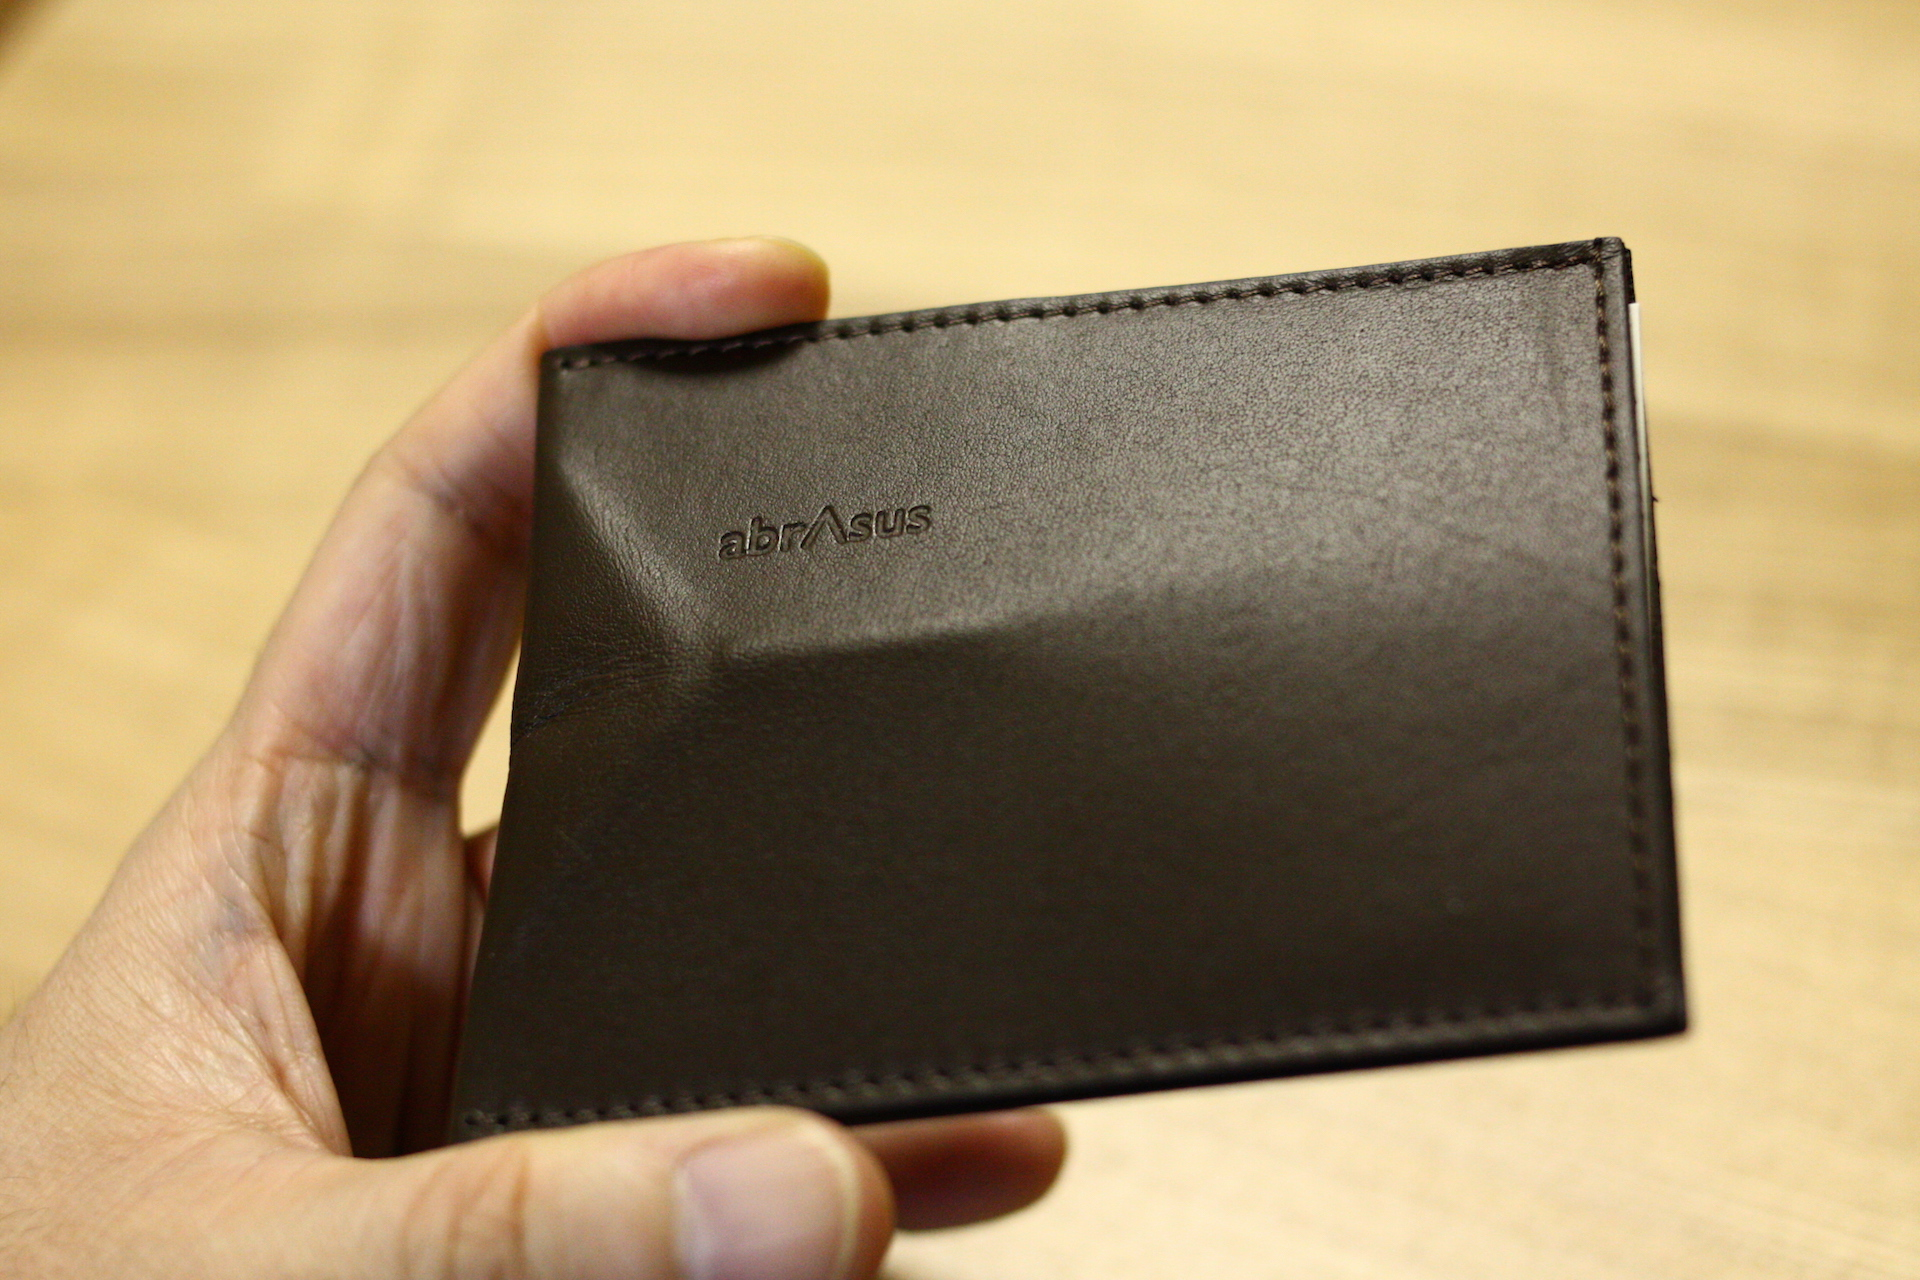monedero: (431, 233, 1697, 1139)
